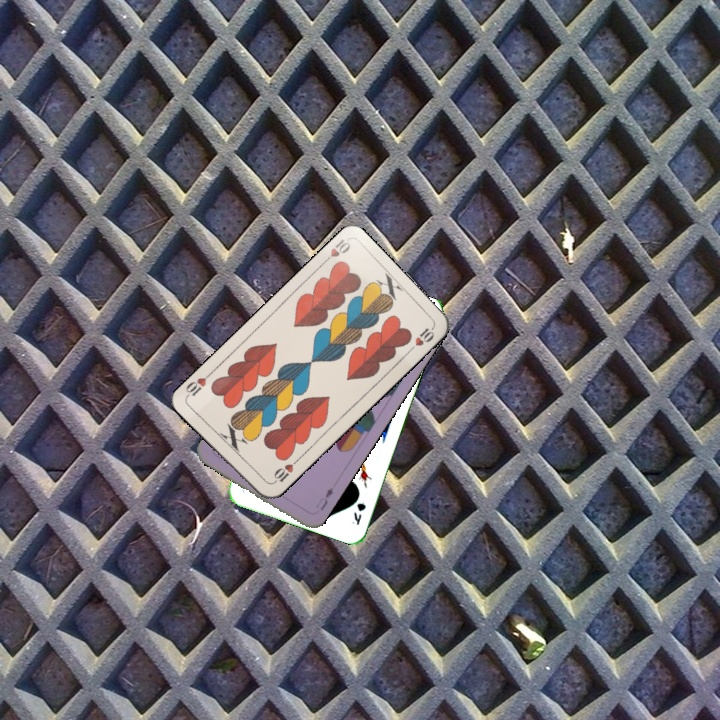EU: (312, 483, 336, 513)
GK: (349, 499, 368, 527)
H10: (318, 235, 353, 267), (268, 455, 301, 487)
